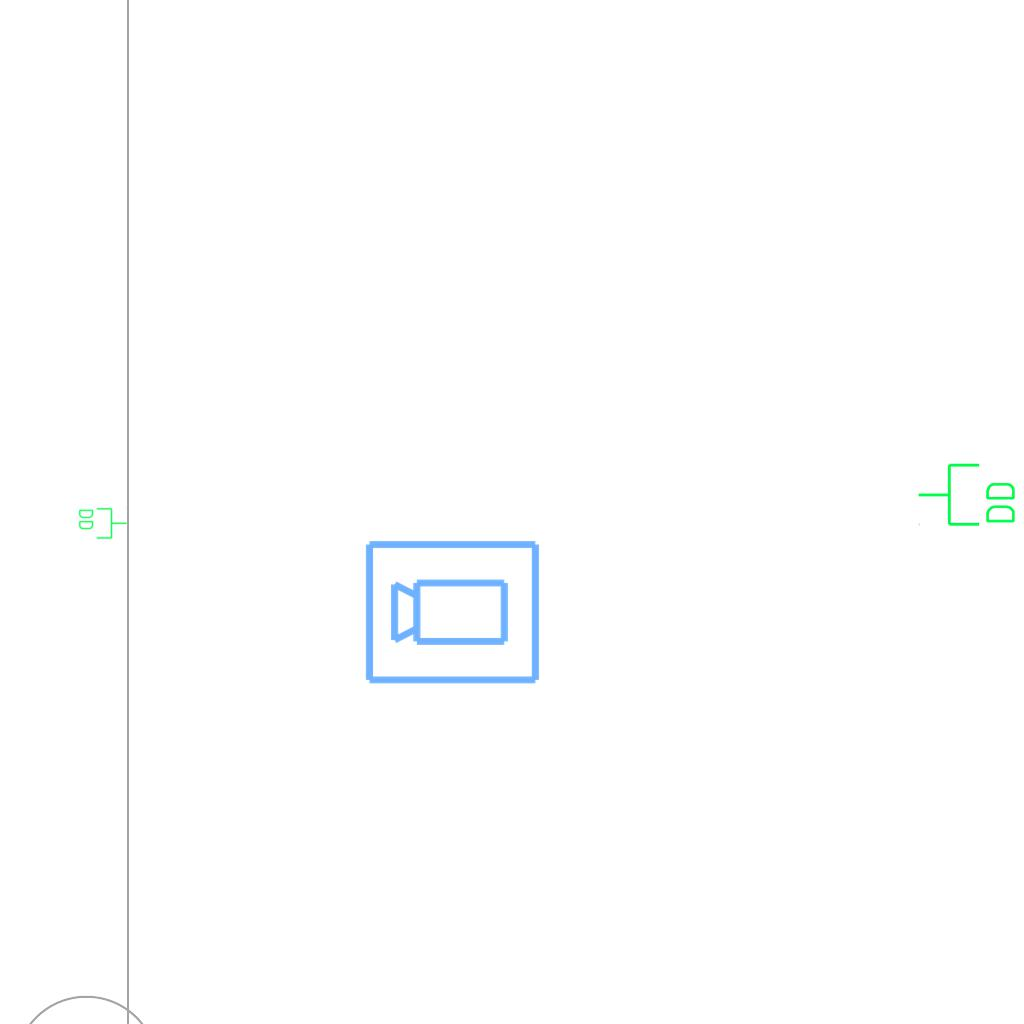Datenanschluss_zweifach: (916, 461, 1019, 530), (77, 506, 128, 540)
KFO_Kamera_mit_Festobjektiv: (362, 534, 544, 688)
